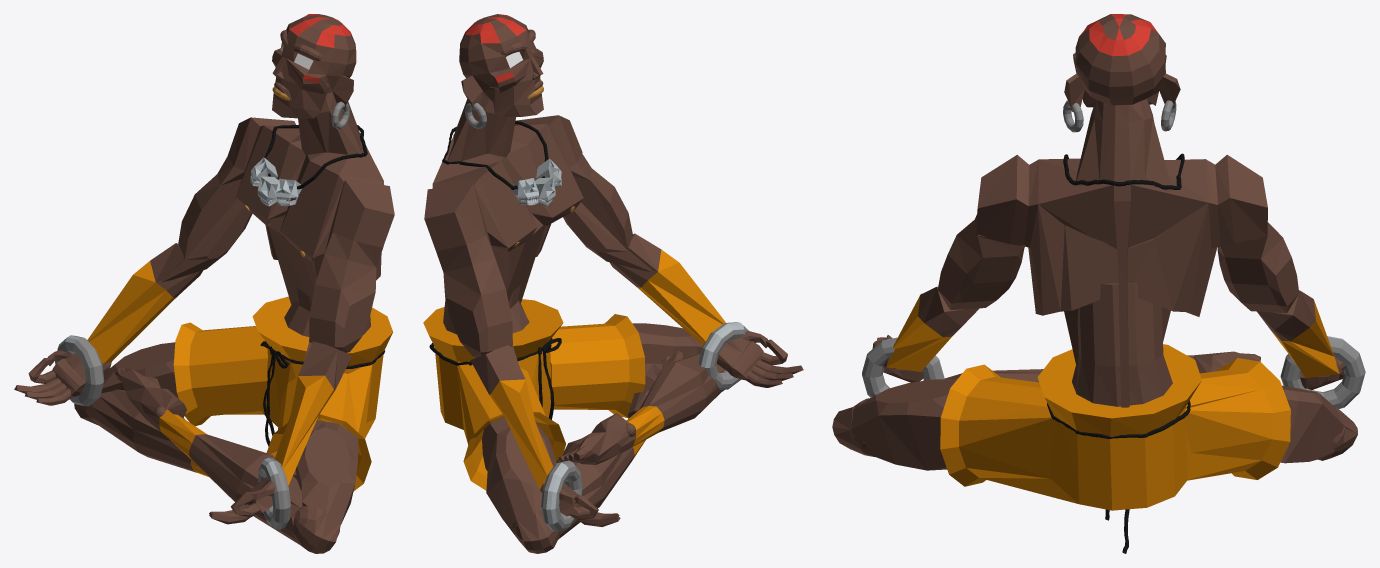
The model's file is meditationladywireframe.gltf.
The picture shows the model from 3 angles, left to right: view 1: azimuth 30°, elevation 25°; view 2: azimuth 150°, elevation 25°; view 3: azimuth 270°, elevation 25°; orthographic projection. The views are drawn at different scales.
Parts seen in each view (by area): view 1: node_MeshObject-532972992-PolyPaper20, node_MeshObject-14252928-PolyPaper16, node_MeshObject504467136-PolyPaper23; view 2: node_MeshObject-532972992-PolyPaper20, node_MeshObject-14252928-PolyPaper16, node_MeshObject504467136-PolyPaper23; view 3: node_MeshObject-14252928-PolyPaper16, node_MeshObject-532972992-PolyPaper20, node_MeshObject504467136-PolyPaper23.
Boxes of the visible parts, left/top/right/bottom form: node_MeshObject-532972992-PolyPaper20: left=14, top=58, right=394, bottom=553; node_MeshObject-14252928-PolyPaper16: left=173, top=14, right=392, bottom=529; node_MeshObject504467136-PolyPaper23: left=55, top=56, right=384, bottom=446; node_MeshObject-532972992-PolyPaper20: left=424, top=49, right=803, bottom=553; node_MeshObject-14252928-PolyPaper16: left=423, top=14, right=748, bottom=490; node_MeshObject504467136-PolyPaper23: left=429, top=56, right=582, bottom=531; node_MeshObject-14252928-PolyPaper16: left=862, top=14, right=1290, bottom=510; node_MeshObject-532972992-PolyPaper20: left=832, top=52, right=1357, bottom=470; node_MeshObject504467136-PolyPaper23: left=1047, top=184, right=1365, bottom=553.
Size of the model in its own units: 0.876 by 1.42 by 1.25.
